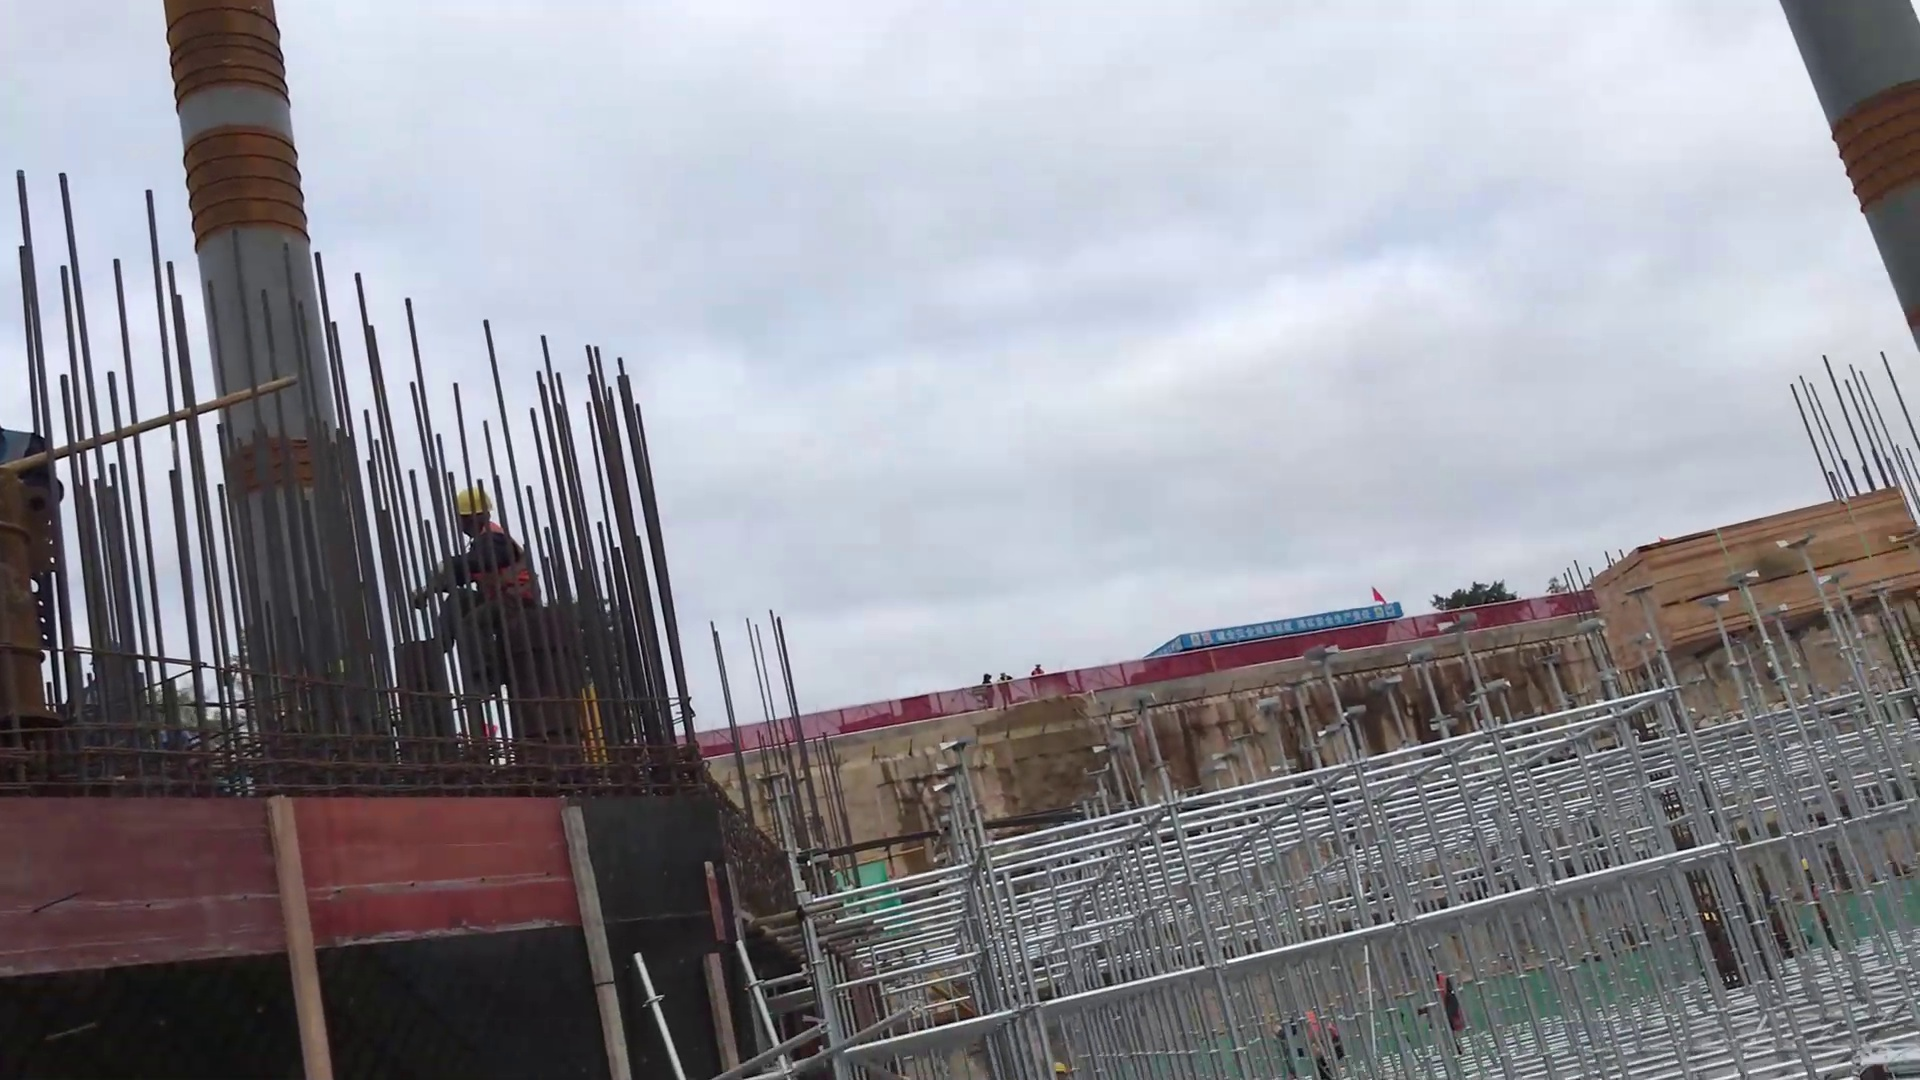helmet: (454, 485, 497, 520)
person: (418, 483, 555, 615)
slogan: (1177, 602, 1406, 650)
wood: (1591, 486, 1920, 665)
